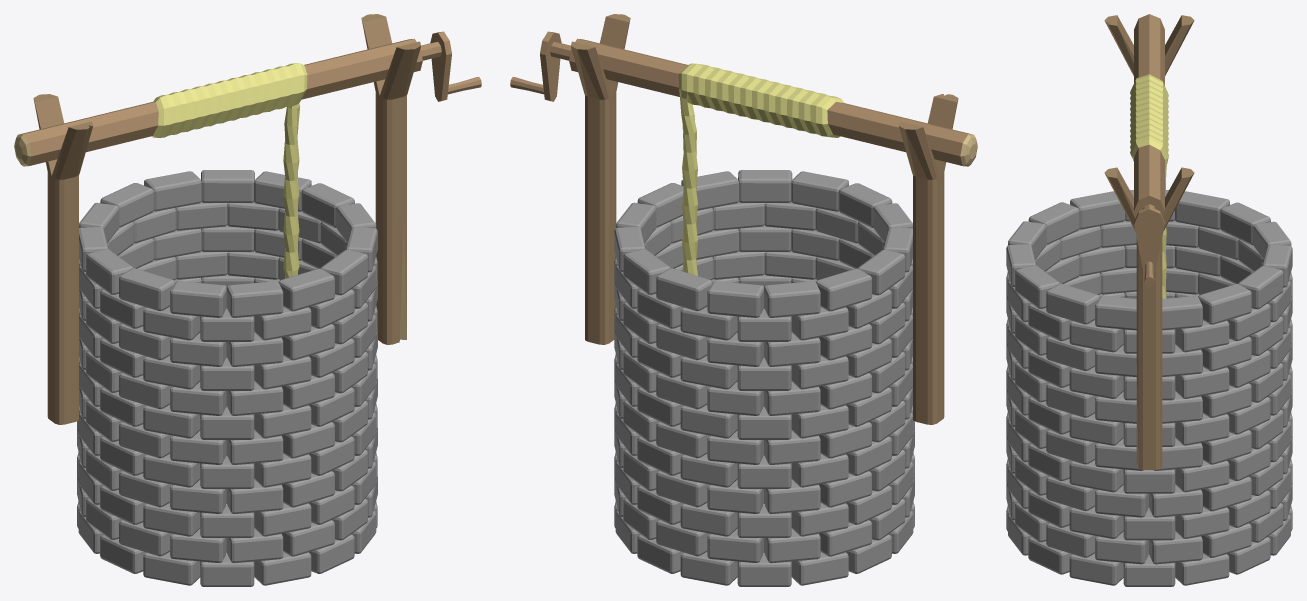
The model's file is Well1b.fbx.
The picture shows the model from 3 angles, left to right: view 1: azimuth 30°, elevation 25°; view 2: azimuth 150°, elevation 25°; view 3: azimuth 270°, elevation 25°; orthographic projection. The views are drawn at different scales.
Parts seen in each view (by area): view 1: Circle; view 2: Circle; view 3: Circle.
Part boxes in pixels (x1,y1,x2,y2): Circle: (14, 14, 481, 586); Circle: (510, 14, 977, 586); Circle: (1006, 14, 1292, 586).
Size of the model in its own units: 393 by 370 by 222.
